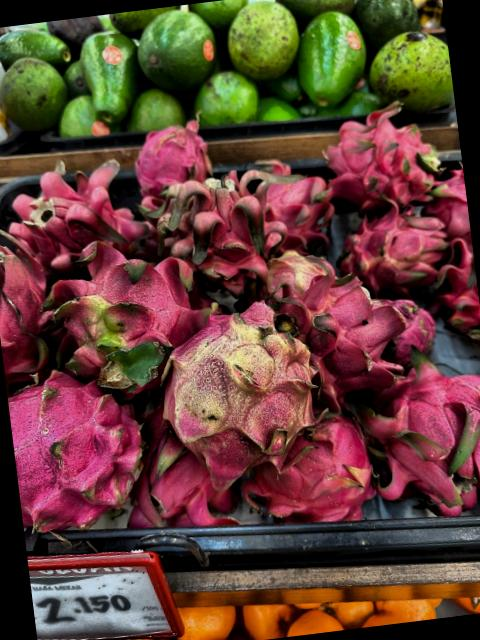buah-naga-belum-matang: (168, 304, 327, 488), (43, 240, 208, 392)
buah-naga-matang: (5, 362, 151, 528), (144, 169, 300, 306), (274, 250, 404, 404), (363, 355, 480, 526), (125, 392, 246, 542), (0, 163, 149, 276), (251, 414, 391, 530), (314, 96, 452, 206), (332, 183, 456, 290), (0, 209, 66, 388), (239, 150, 338, 254), (127, 114, 217, 188), (428, 243, 480, 345), (382, 293, 442, 361), (428, 166, 472, 249)
